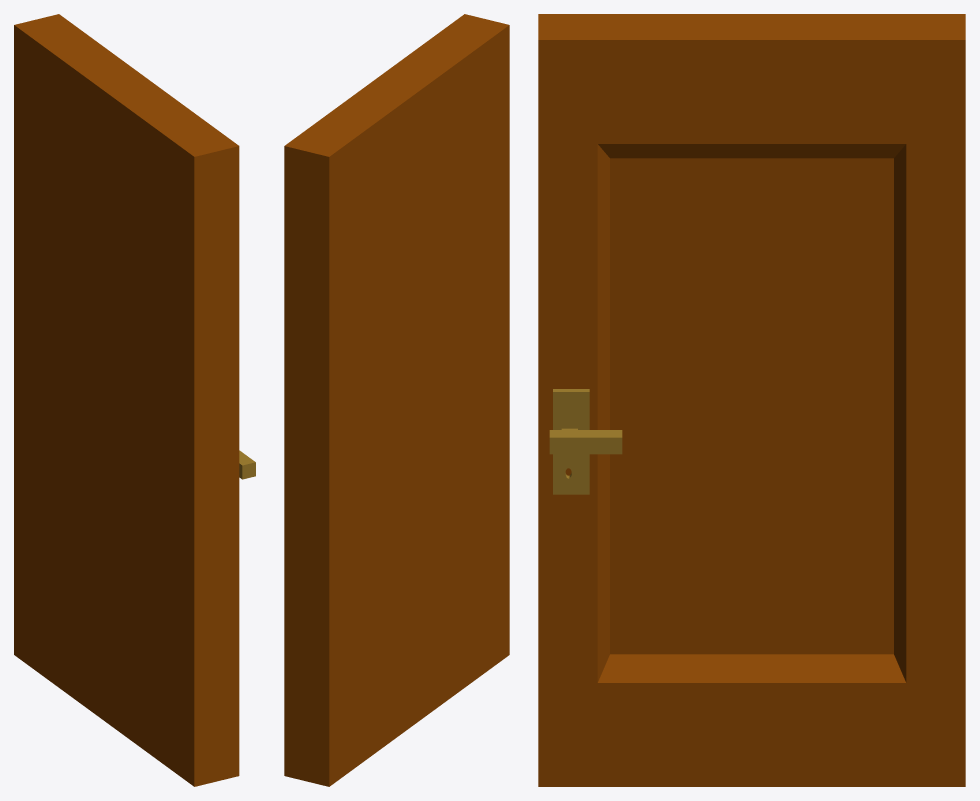
File: doors 1.fbx
3 renders of one model, left to right at view 1: azimuth 30°, elevation 25°; view 2: azimuth 150°, elevation 25°; view 3: azimuth 270°, elevation 25°, orthographic. The views are drawn at different scales.
Parts seen in each view (by area): view 1: Cube; view 2: Cube; view 3: Cube, Cube.001.
Part boxes in pixels (x1,y1,x2,y2): Cube: [14, 14, 239, 786]; Cube: [284, 14, 509, 786]; Cube: [538, 14, 965, 786]; Cube.001: [549, 389, 622, 494].
Size of the model in its own units: 57.22 by 520 by 270.
